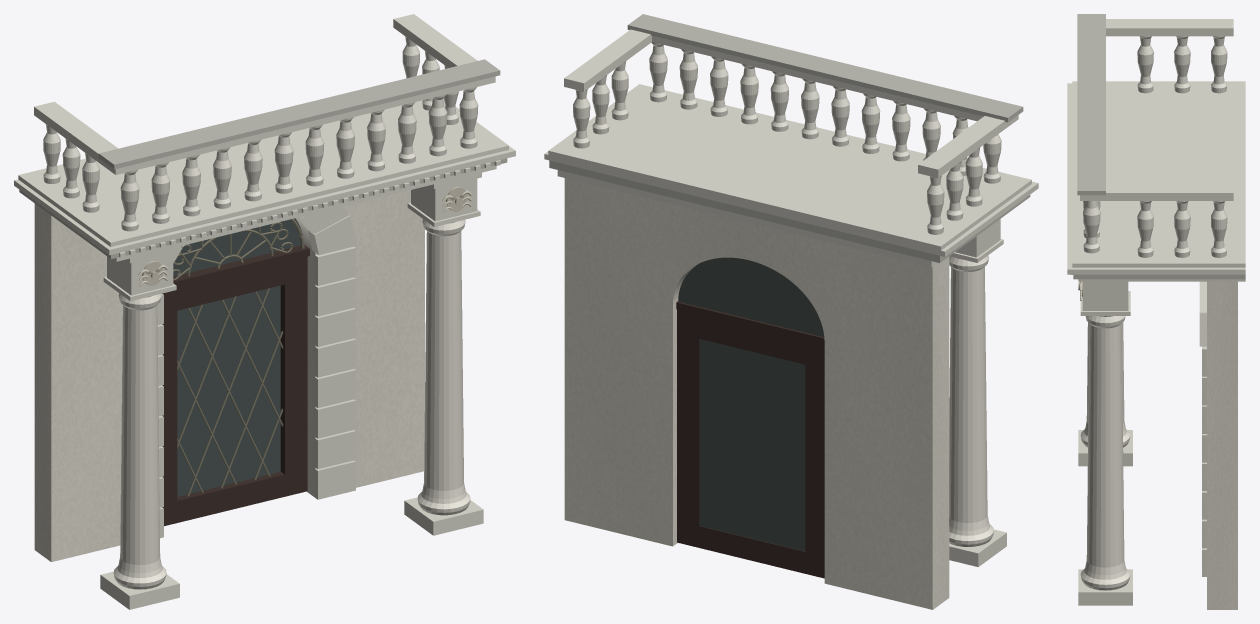
The model's file is changning-white-house-club-porch-balustrade-raw.glb.
3 views of the same model, side by side, from view 1: azimuth 30°, elevation 25°; view 2: azimuth 150°, elevation 25°; view 3: azimuth 270°, elevation 25° (orthographic). The views are drawn at different scales.
Parts seen in each view (by area): view 1: 白宫俱乐部廊顶瓶栏与浮雕柱头; view 2: 白宫俱乐部廊顶瓶栏与浮雕柱头; view 3: 白宫俱乐部廊顶瓶栏与浮雕柱头.
Boxes of the visible parts, x1,y1,x2,y2 form: 白宫俱乐部廊顶瓶栏与浮雕柱头: [14, 14, 515, 609]; 白宫俱乐部廊顶瓶栏与浮雕柱头: [544, 14, 1038, 609]; 白宫俱乐部廊顶瓶栏与浮雕柱头: [1067, 14, 1245, 609].
Bounding box in the file's own units: 3.96 × 4.18 × 1.61.
9 materials, 1 textured.
